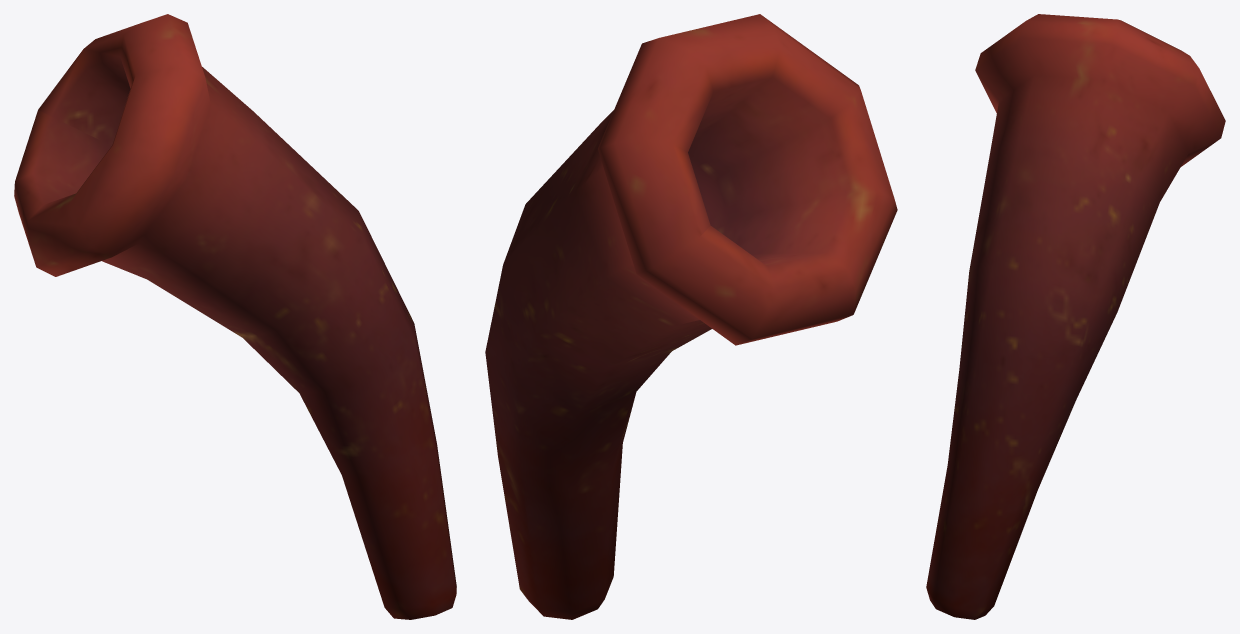
The model's file is Sce_Aquarium_Hawaii01_SeaAnemone10_c.FBX.
3 renders of one model, left to right at view 1: azimuth 30°, elevation 25°; view 2: azimuth 150°, elevation 25°; view 3: azimuth 270°, elevation 25°, orthographic. The views are drawn at different scales.
Parts seen in each view (by area): view 1: Sce_Aquarium_Hawaii01_SeaAnemone10_c; view 2: Sce_Aquarium_Hawaii01_SeaAnemone10_c; view 3: Sce_Aquarium_Hawaii01_SeaAnemone10_c.
Boxes of the visible parts, <box> form: Sce_Aquarium_Hawaii01_SeaAnemone10_c: <box>14,14,456,619</box>; Sce_Aquarium_Hawaii01_SeaAnemone10_c: <box>485,14,897,619</box>; Sce_Aquarium_Hawaii01_SeaAnemone10_c: <box>926,14,1225,619</box>.
Size of the model in its own units: 0.2441 by 0.3853 by 0.2031.
